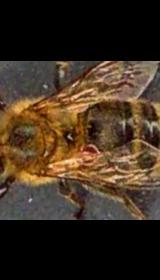varroa_mite: (76, 138, 102, 168)
